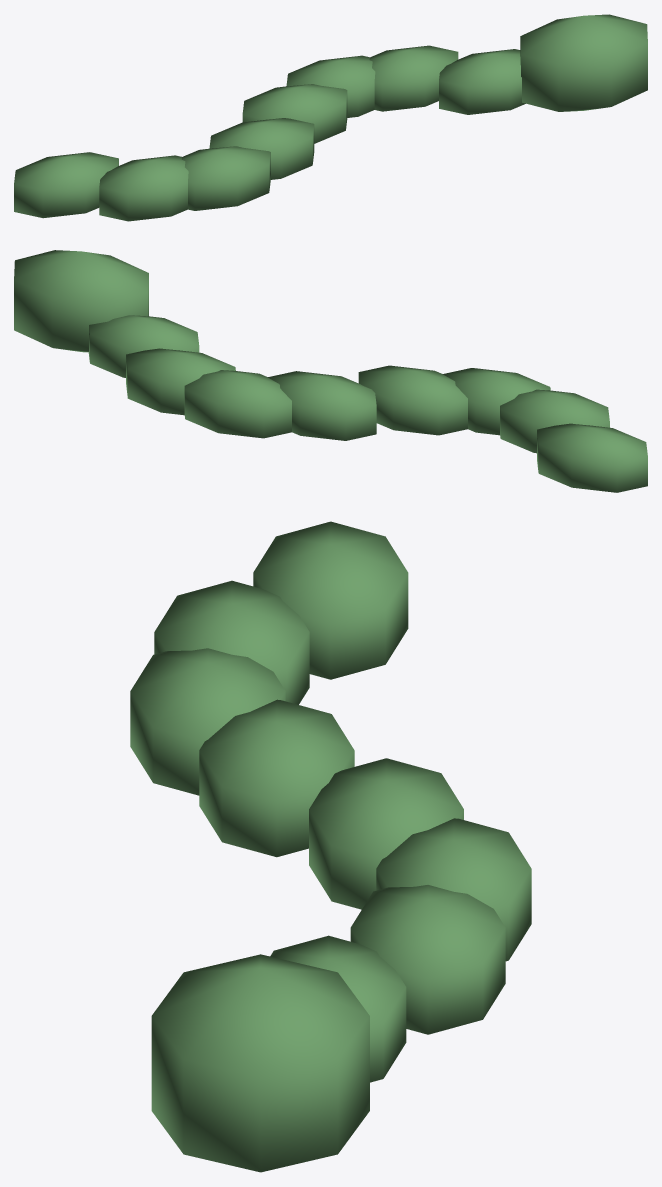
Rendered from snake.glb.
3 renders of one model, top to bottom at view 1: azimuth 30°, elevation 25°; view 2: azimuth 150°, elevation 25°; view 3: azimuth 270°, elevation 25°, orthographic. The views are drawn at different scales.
Parts seen in each view (by area): view 1: snake; view 2: snake; view 3: snake.
Part boxes in pixels (left/top/right/bottom): snake: left=14, top=14, right=647, bottom=221; snake: left=14, top=250, right=647, bottom=492; snake: left=130, top=521, right=531, bottom=1172.
Size of the model in its own units: 2.03 by 0.3 by 0.573.
